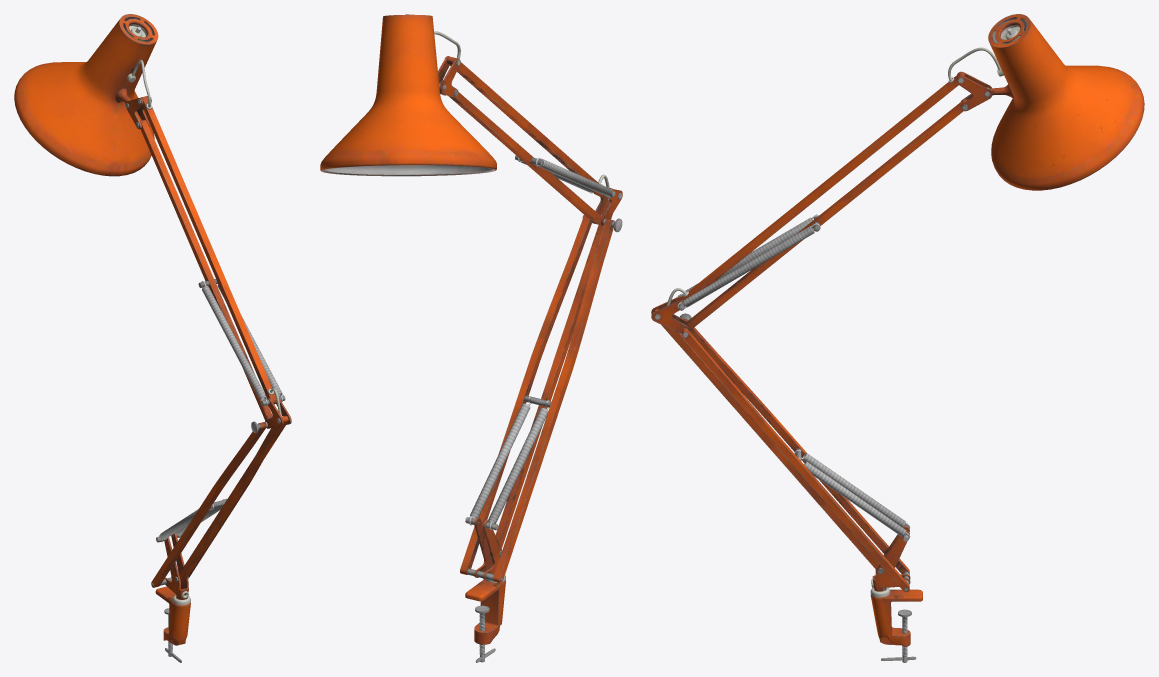
The model's file is desk_lamp_rig.glb.
3 renders of one model, left to right at view 1: azimuth 30°, elevation 25°; view 2: azimuth 150°, elevation 25°; view 3: azimuth 270°, elevation 25°, orthographic. The views are drawn at different scales.
Visible parts, largest first — view 1: lamp_head, Box.026, Box.001, Box.025; view 2: lamp_head, Box.001, Box.026, Box.025; view 3: lamp_head, Box.001, Box.026, Box.025.
Part boxes in pixels (x1,y1,x2,y2): lamp_head: [14, 14, 158, 176]; Box.026: [140, 96, 282, 421]; Box.001: [151, 388, 291, 587]; Box.025: [151, 533, 190, 662]; lamp_head: [320, 14, 496, 176]; Box.001: [460, 174, 622, 583]; Box.026: [447, 56, 621, 225]; Box.025: [465, 450, 541, 662]; lamp_head: [948, 14, 1144, 190]; Box.001: [651, 288, 910, 592]; Box.026: [654, 72, 967, 330]; Box.025: [842, 496, 922, 662].
Bounding box in the file's own units: 0.2017 × 0.8926 × 0.6139.
Materials: 2 (2 with a texture image).
